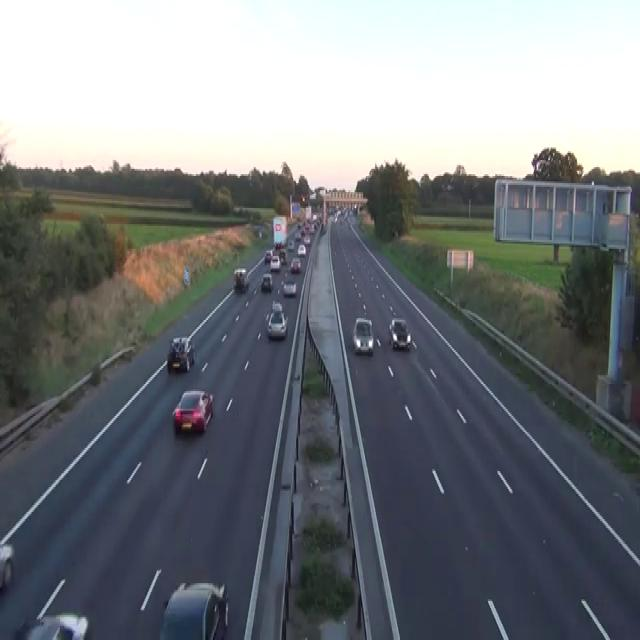Car: (14, 578, 89, 638), (159, 580, 229, 638), (14, 612, 88, 638), (171, 389, 213, 434), (167, 336, 195, 372), (54, 612, 88, 638), (352, 316, 374, 356), (388, 318, 411, 350), (0, 542, 14, 588), (266, 309, 287, 338), (233, 266, 249, 292), (282, 277, 297, 297), (260, 272, 272, 292), (289, 256, 301, 274), (270, 254, 281, 270), (271, 300, 283, 313), (264, 249, 272, 263), (278, 249, 286, 263), (297, 244, 306, 256), (334, 210, 342, 222), (300, 194, 307, 206), (287, 240, 294, 251), (321, 222, 327, 233), (446, 182, 454, 190), (303, 234, 310, 243), (294, 231, 300, 240), (275, 242, 282, 249), (309, 224, 314, 233), (300, 230, 305, 238), (312, 213, 317, 220), (441, 183, 446, 190), (258, 230, 262, 238)
Truck: (272, 215, 287, 247)
